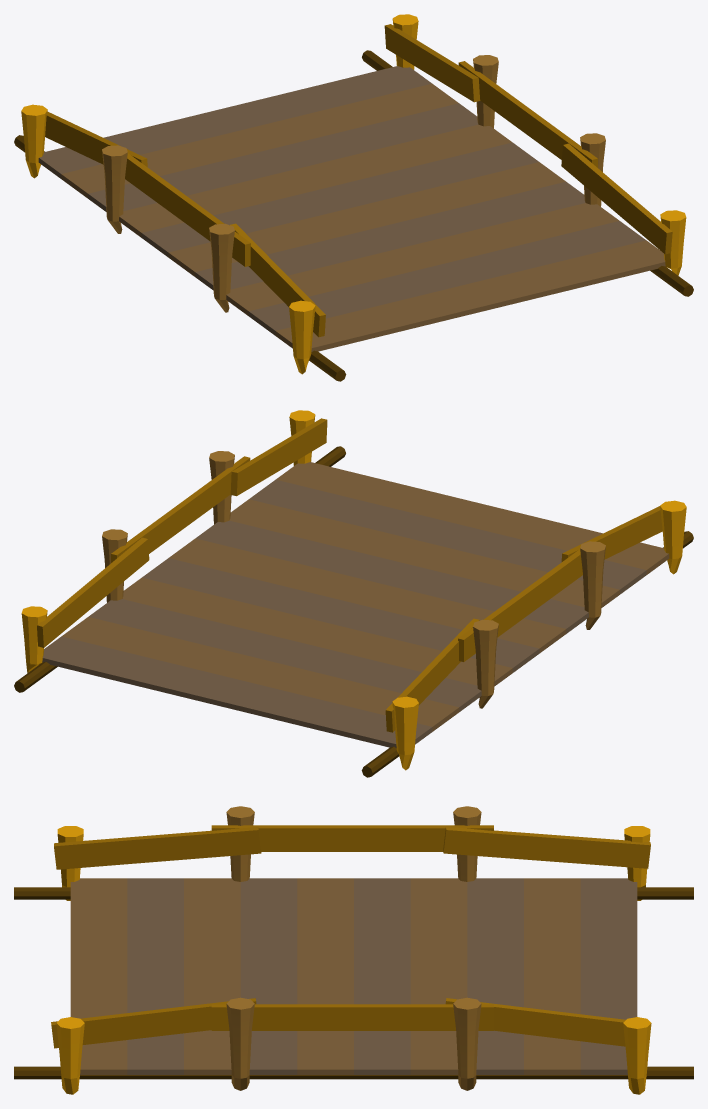
Rendered from WoodBridge.fbx.
The picture shows the model from 3 angles, top to bottom: view 1: azimuth 30°, elevation 25°; view 2: azimuth 150°, elevation 25°; view 3: azimuth 270°, elevation 25°; orthographic projection. The views are drawn at different scales.
Visible parts, largest first — view 1: Wood_Bridge; view 2: Wood_Bridge; view 3: Wood_Bridge.
Part boxes in pixels (bbox=[...]): Wood_Bridge: bbox=[14, 14, 693, 381]; Wood_Bridge: bbox=[14, 410, 693, 777]; Wood_Bridge: bbox=[14, 806, 693, 1094].
Bounding box in the file's own units: 8.5 × 1.75 × 12.
